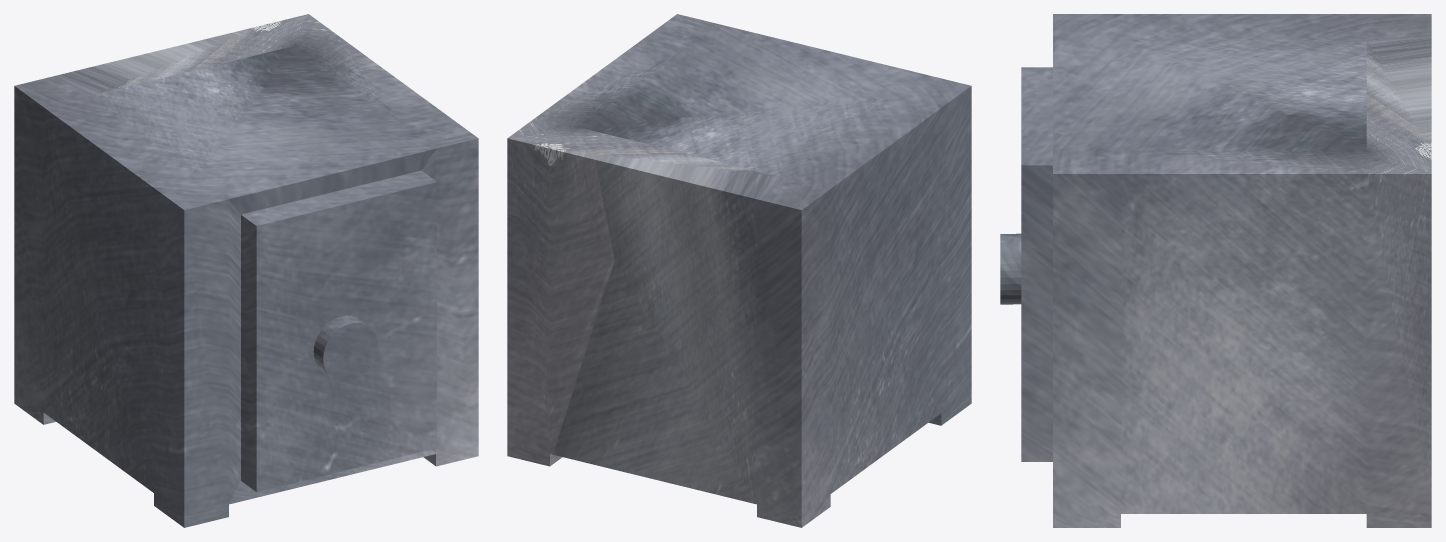
Rendered from attic_safe.dae.
3 views of the same model, side by side, from view 1: azimuth 30°, elevation 25°; view 2: azimuth 150°, elevation 25°; view 3: azimuth 270°, elevation 25° (orthographic). The views are drawn at different scales.
Parts seen in each view (by area): view 1: Safe; view 2: Safe; view 3: Safe.
Part boxes in pixels (left/top/right/bottom): Safe: left=14, top=14, right=478, bottom=527; Safe: left=507, top=14, right=971, bottom=527; Safe: left=1000, top=14, right=1431, bottom=527.
Size of the model in its own units: 1.31 by 1.49 by 1.35.
1 material, 1 textured.
